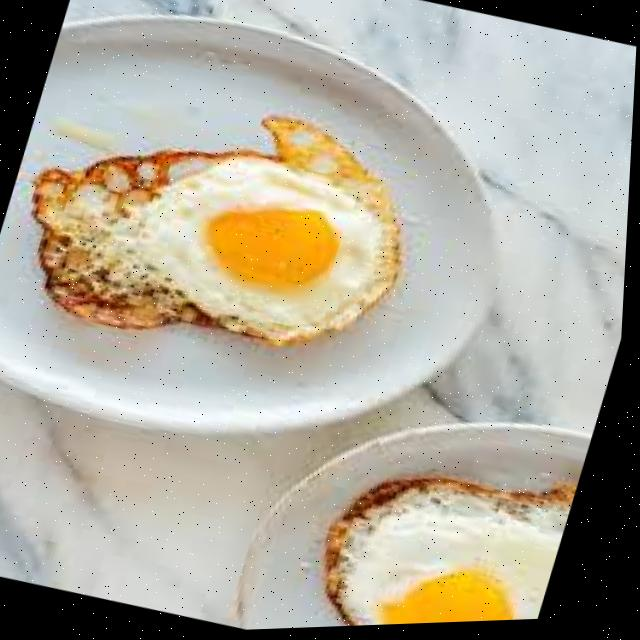Egg: (142, 158, 400, 347), (331, 481, 578, 629)
